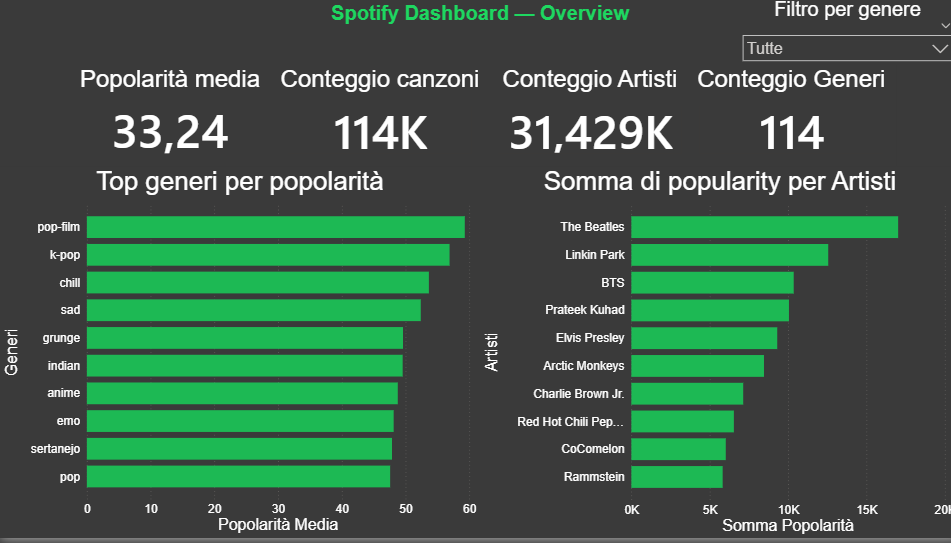

The page's visual inventory and layout, read from the dashboard file:
{"tool":"powerbi","page":{"name":"Overview","canvas":[1280,720],"ordinal":0},"visuals":[{"type":"cardVisual","title":"Popolarità media","fields":{"Data":["Avg(spotify_tracks.popularity)"]},"box":[87.1,90,280,134.3],"z":0},{"type":"cardVisual","title":"Conteggio Artisti","fields":{"Data":["Count(spotify_tracks.Artisti)"]},"box":[647.1,90,280,134.3],"z":1000},{"type":"cardVisual","title":"Conteggio canzoni","fields":{"Data":["CountNonNull(spotify_tracks.track_id)"]},"box":[367.1,90,280,134.3],"z":2000},{"type":"cardVisual","title":"Conteggio Generi","fields":{"Data":["Count(spotify_tracks.track_genre)"]},"box":[915.7,90,280,134.3],"z":3000},{"type":"clusteredBarChart","title":"Top generi per popolarità","fields":{"Category":["spotify_tracks.track_genre"],"Y":["Avg(spotify_tracks.popularity)"]},"box":[0,225,640,495],"z":4000},{"type":"clusteredBarChart","fields":{"Category":["spotify_tracks.Artisti"],"Y":["Sum(spotify_tracks.popularity)"]},"box":[640,224.3,640,495.7],"z":5000},{"type":"slicer","title":"Filtro per genere","fields":{"Values":["spotify_tracks.track_genre"]},"box":[980,0,300,90],"z":6000},{"type":"textbox","box":[395,0,490,45],"z":7000}]}

Visuals, with their boxes in screenshot pixels (x1, y1, x2, y2), scaled from the page's 1280x720 canvas onto the 951x543 screenshot:
"Popolarità media" cardVisual: l=65, t=68, r=273, b=169
"Conteggio Artisti" cardVisual: l=481, t=68, r=689, b=169
"Conteggio canzoni" cardVisual: l=273, t=68, r=481, b=169
"Conteggio Generi" cardVisual: l=680, t=68, r=888, b=169
"Top generi per popolarità" clusteredBarChart: l=0, t=170, r=476, b=542
clusteredBarChart - spotify_tracks.Artisti x Sum(spotify_tracks.popularity): l=476, t=169, r=950, b=542
"Filtro per genere" slicer: l=728, t=0, r=950, b=68
textbox: l=293, t=0, r=658, b=34
